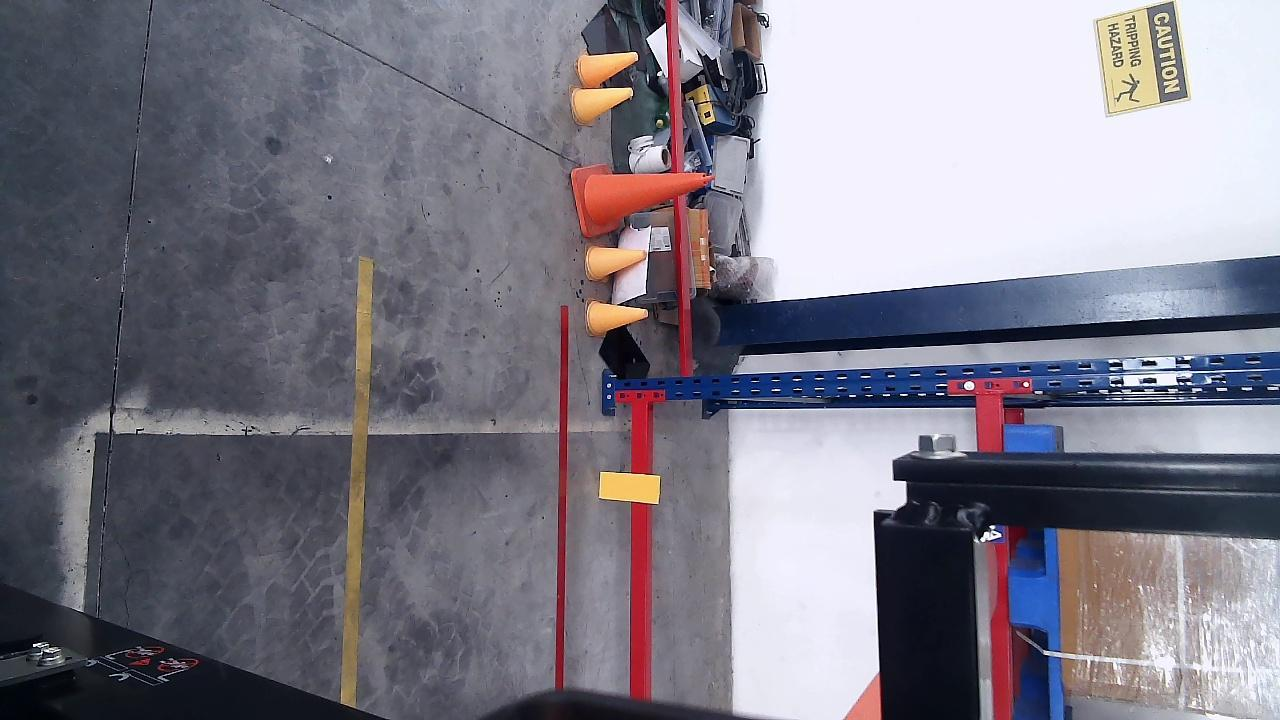h_rack: (629, 402, 651, 702)
orange_strip: (601, 472, 660, 502)
red_line: (555, 303, 569, 688)
yellow_line: (341, 256, 372, 706)
